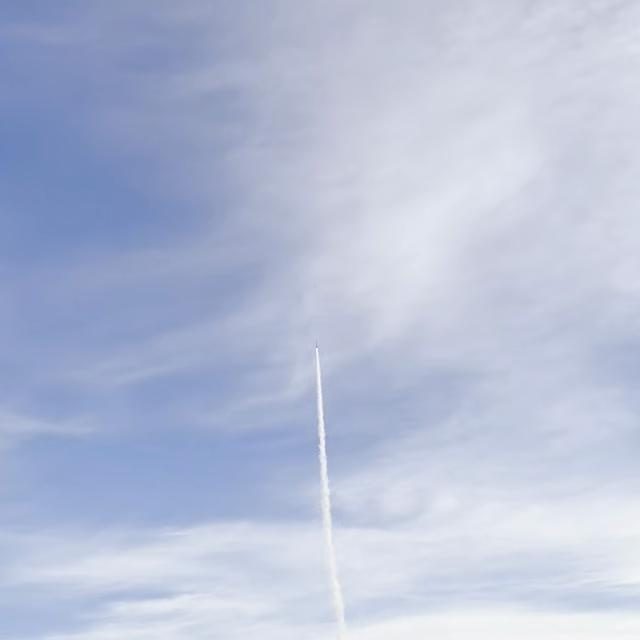smoke_trail_with_rocket: (314, 343, 347, 640)
